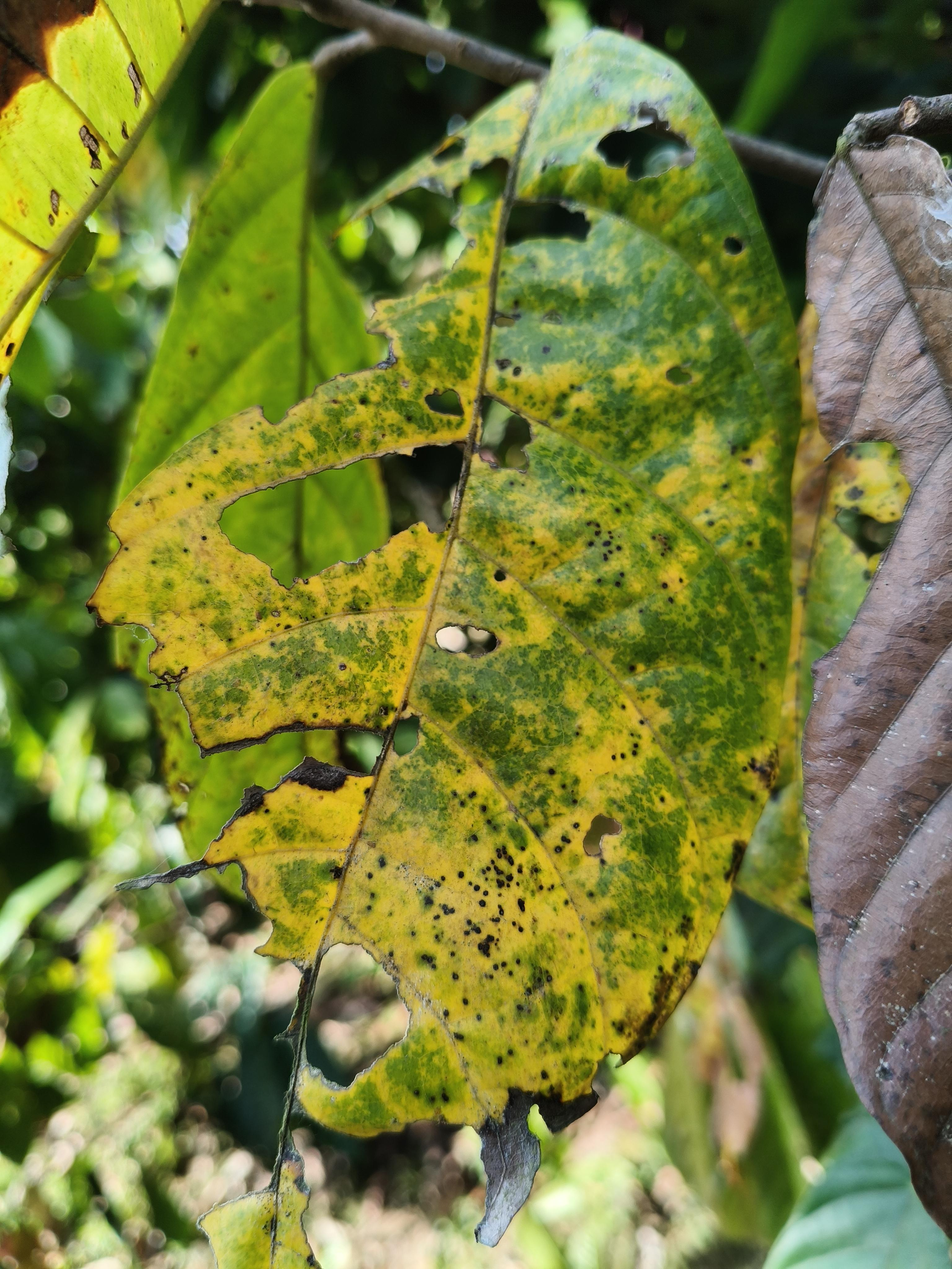deficiencia_potasio: (81, 4, 839, 1164)
